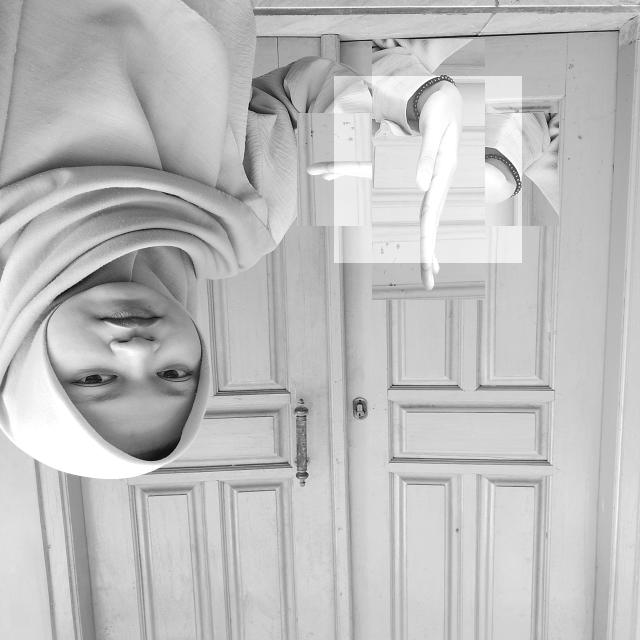adik: (334, 76, 522, 263)
